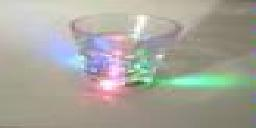LED: (74, 40, 167, 97)
